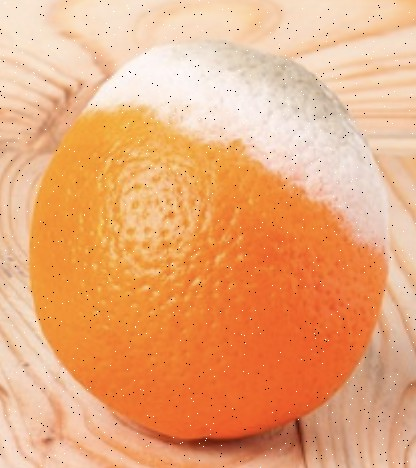rotten_orange: (32, 42, 390, 439)
